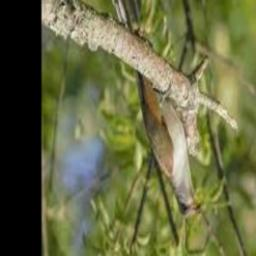Cuckoo: (110, 0, 201, 218)
